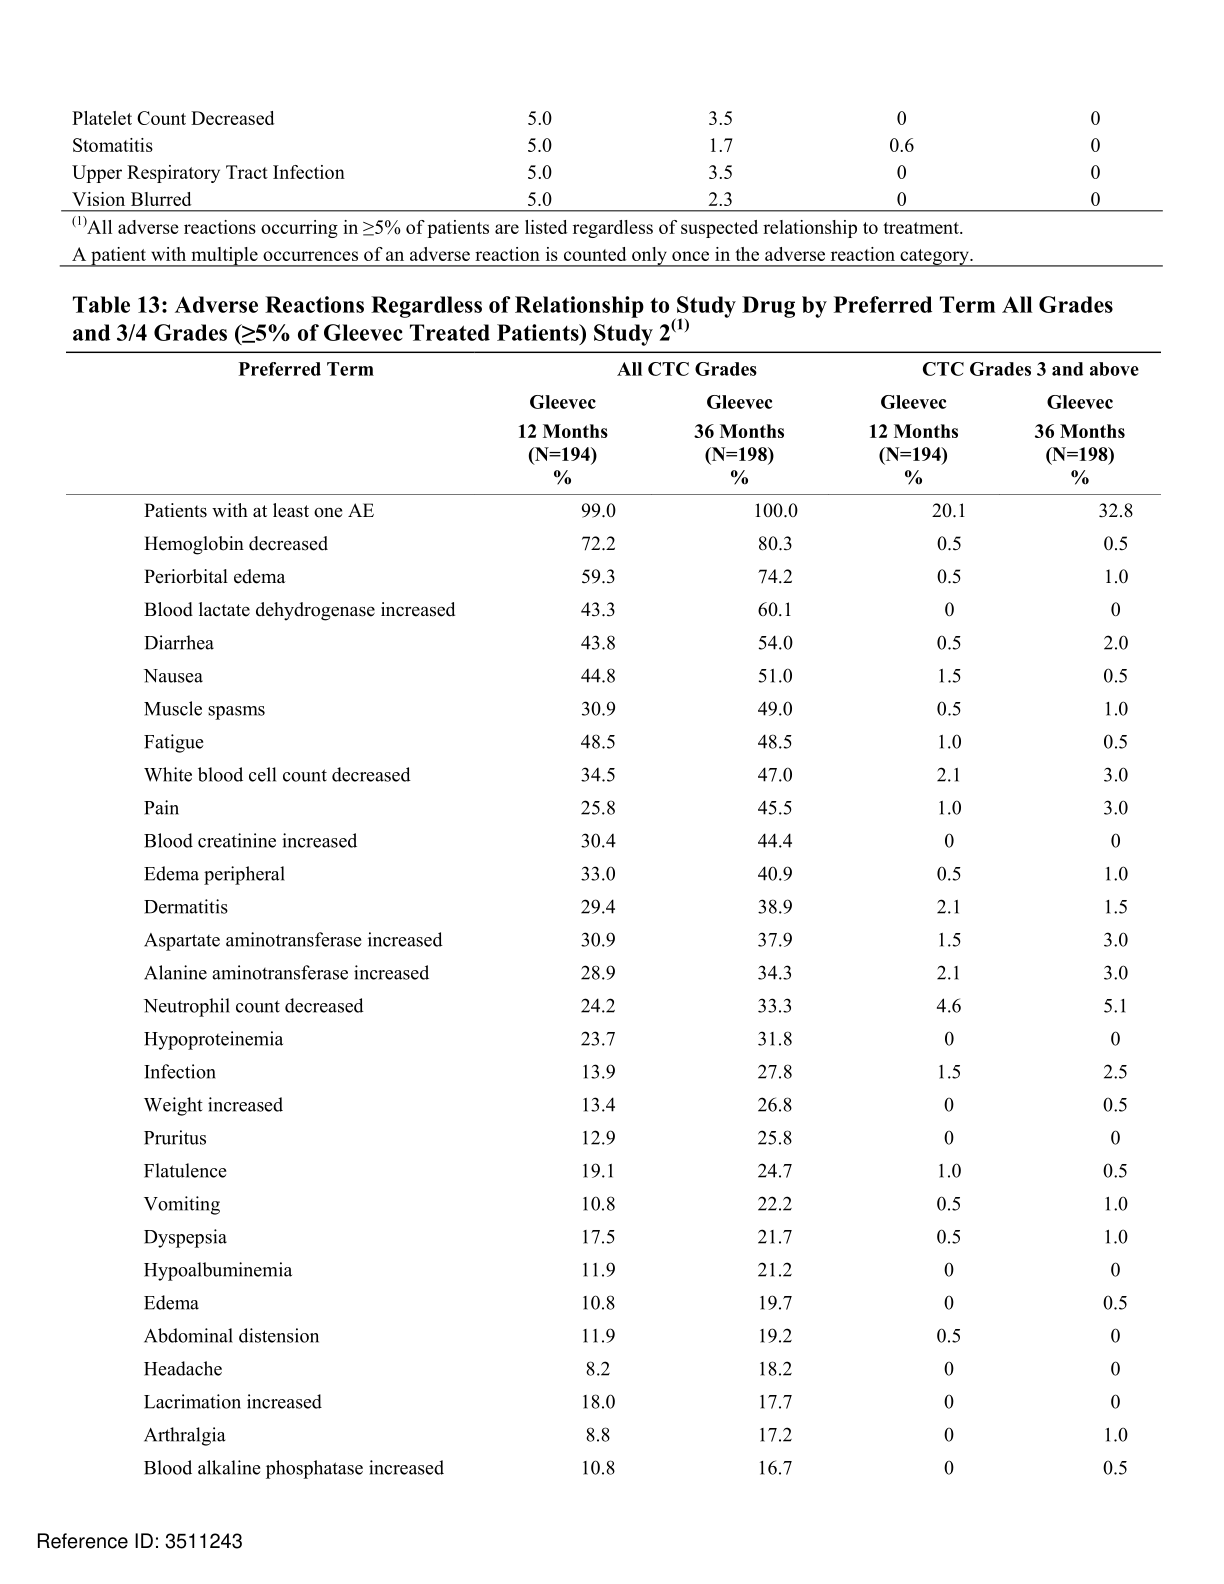partial_lined: (60, 98, 1164, 212)
partial_lined_merged_cells: (66, 348, 1165, 1480)
